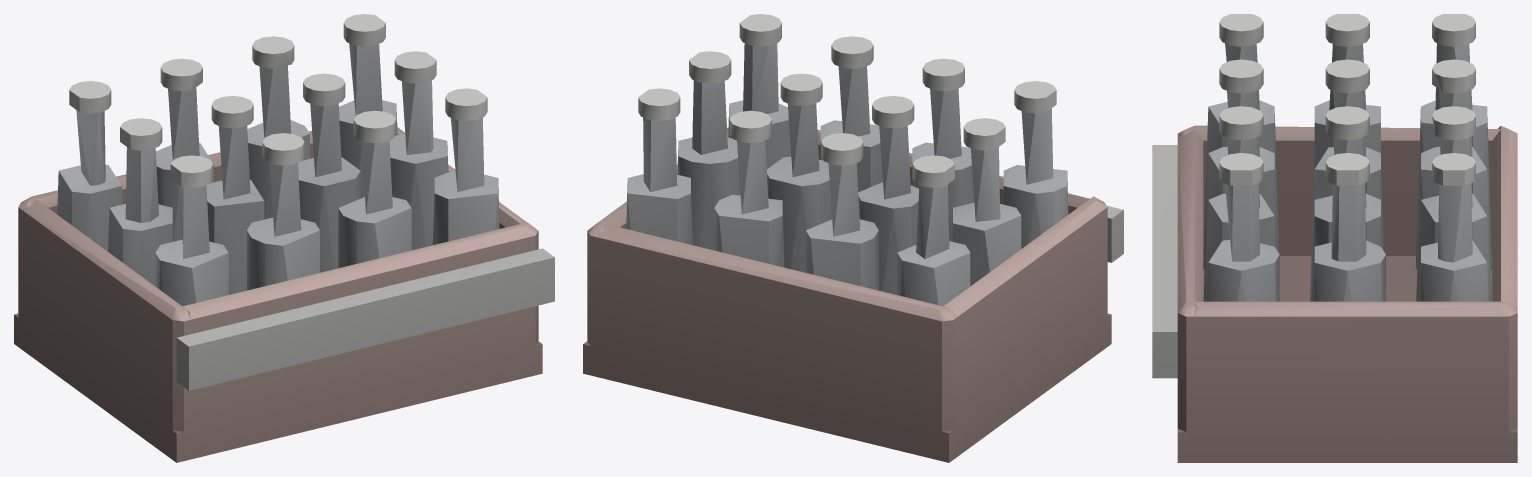
The model's file is crate.lod1.glb.
The picture shows the model from 3 angles, left to right: view 1: azimuth 30°, elevation 25°; view 2: azimuth 150°, elevation 25°; view 3: azimuth 270°, elevation 25°; orthographic projection. The views are drawn at different scales.
Size of the model in its own units: 0.52 by 0.36 by 0.43.
